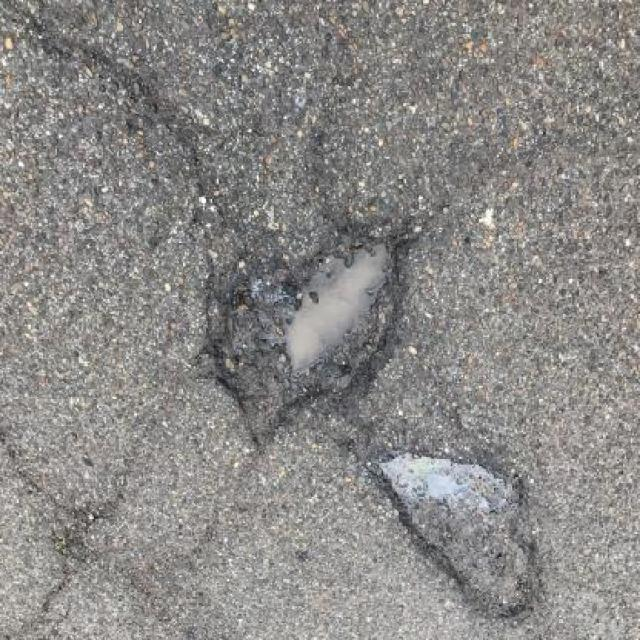pothole: (203, 212, 411, 454), (368, 428, 547, 621)
